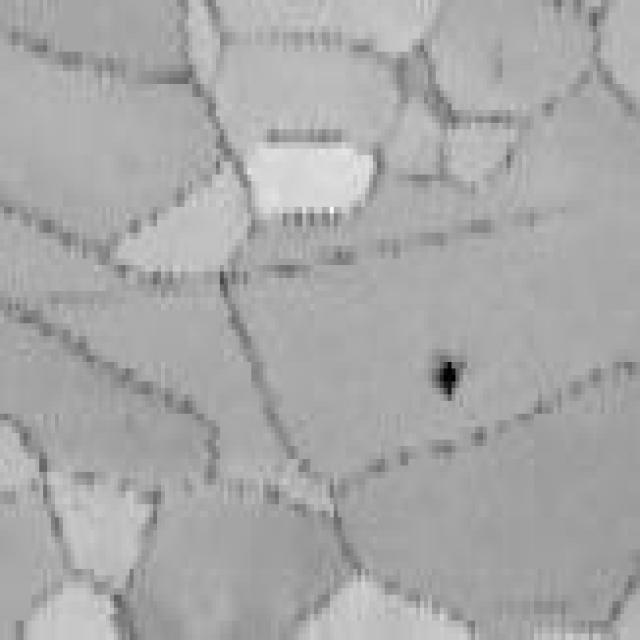good_void: (426, 344, 474, 415)
